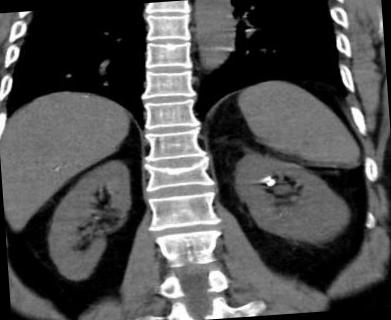Tas_Var: (264, 179, 276, 187), (262, 176, 272, 182)
